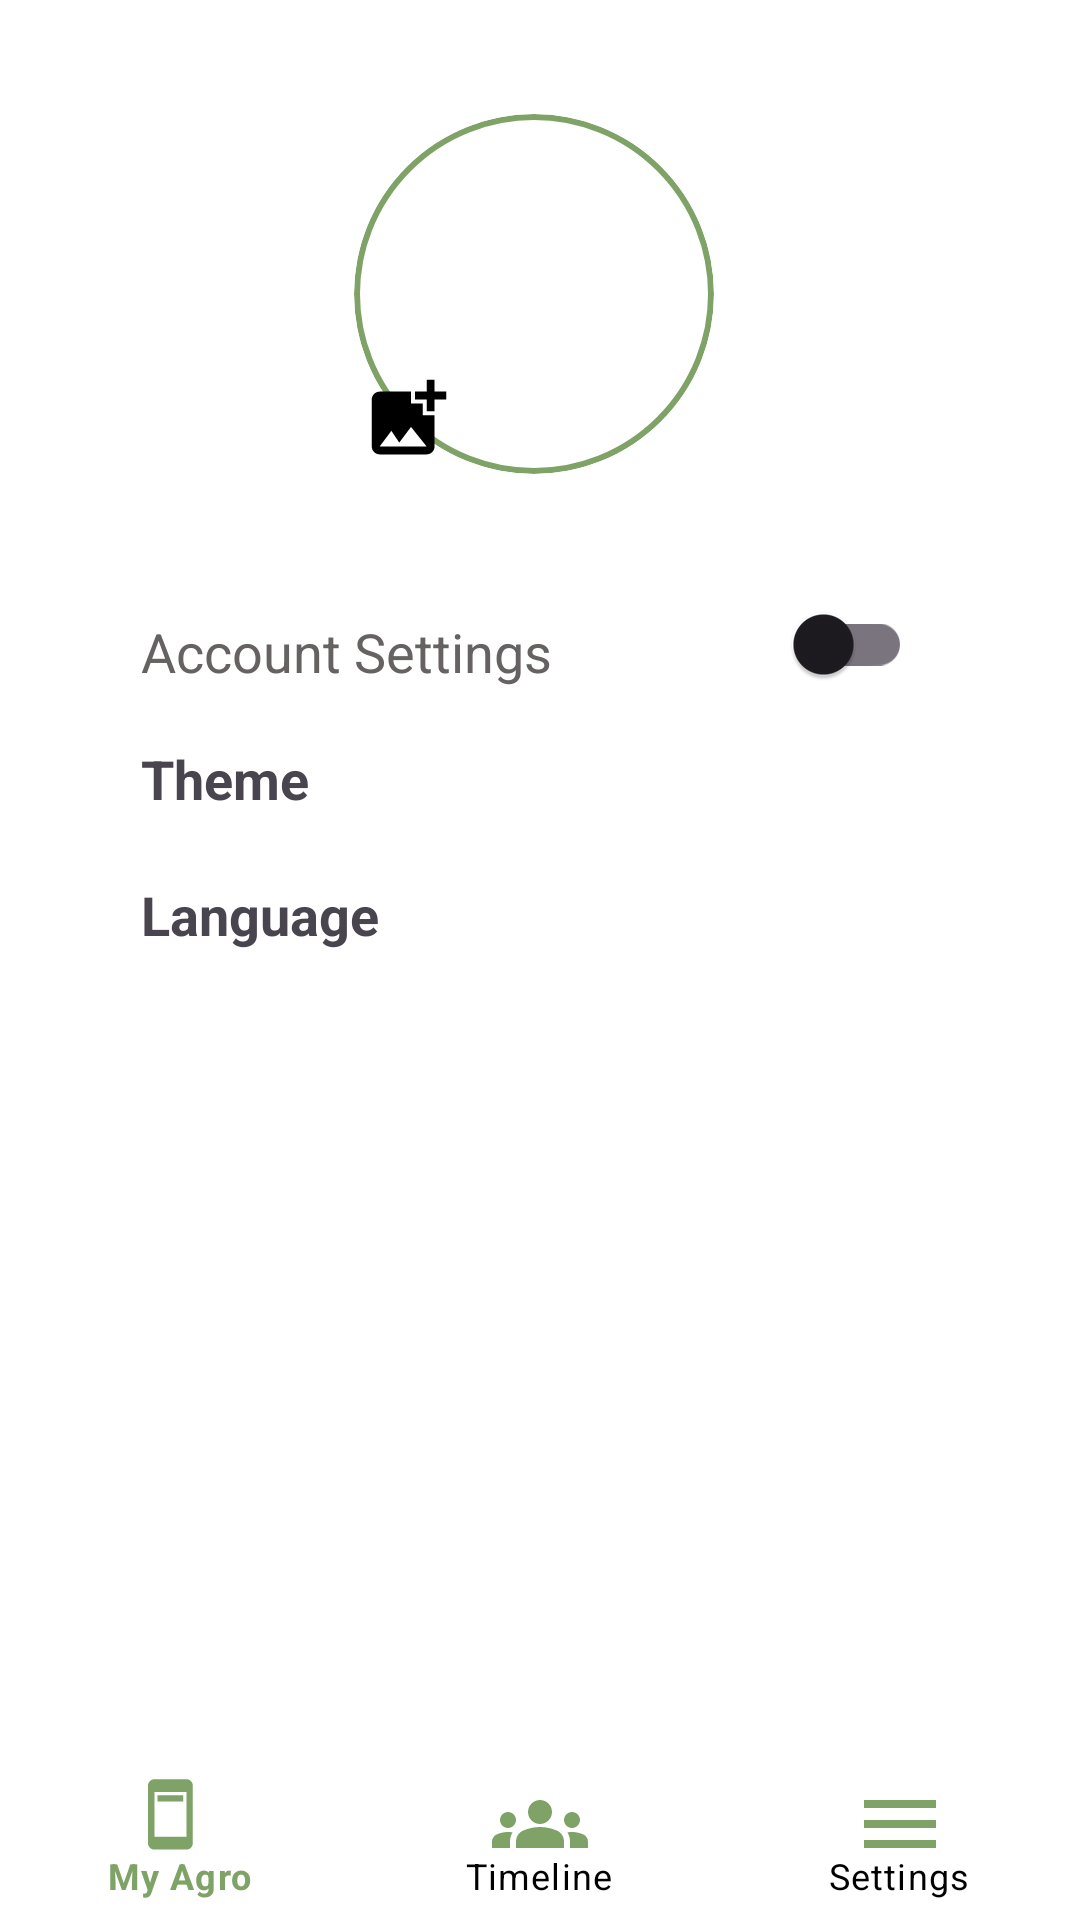

Point at icon controls on the screen. Image size 1080px×1920px, points as (x,y).
gallery: (418,416)
